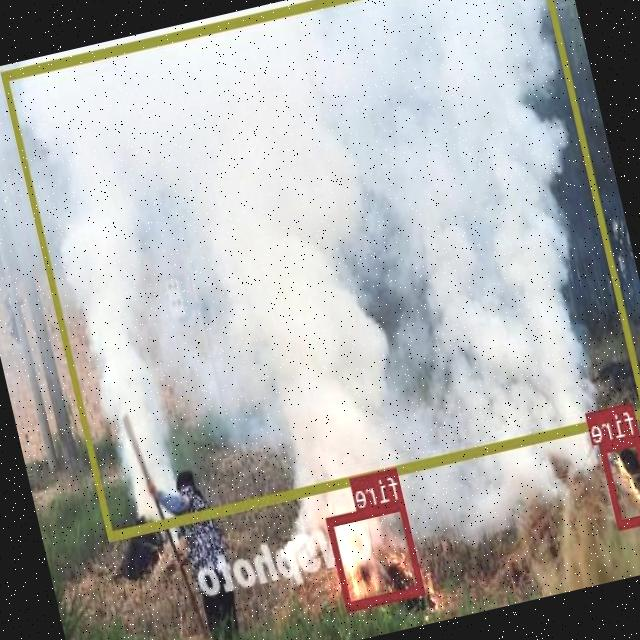fire: (326, 498, 426, 610), (599, 433, 640, 527)
smoke: (1, 0, 640, 537)
